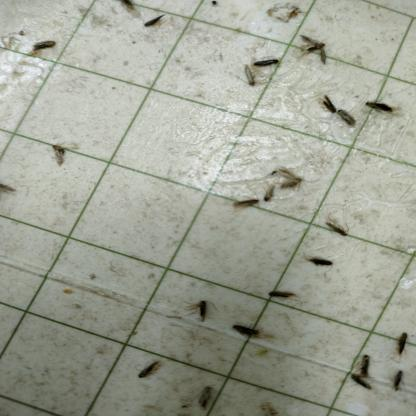prays_oleae: (294, 29, 334, 73), (227, 317, 278, 351), (362, 87, 400, 126), (186, 292, 216, 332), (134, 355, 169, 384), (281, 158, 305, 200), (323, 215, 354, 243), (385, 365, 407, 402), (347, 369, 374, 399), (232, 194, 263, 218), (49, 146, 73, 177), (193, 379, 215, 412), (249, 52, 283, 72), (32, 36, 60, 58), (261, 176, 279, 209), (321, 90, 339, 121), (393, 324, 409, 356), (308, 252, 338, 269), (242, 58, 256, 93), (339, 106, 360, 128), (266, 288, 294, 302), (360, 353, 376, 374)
